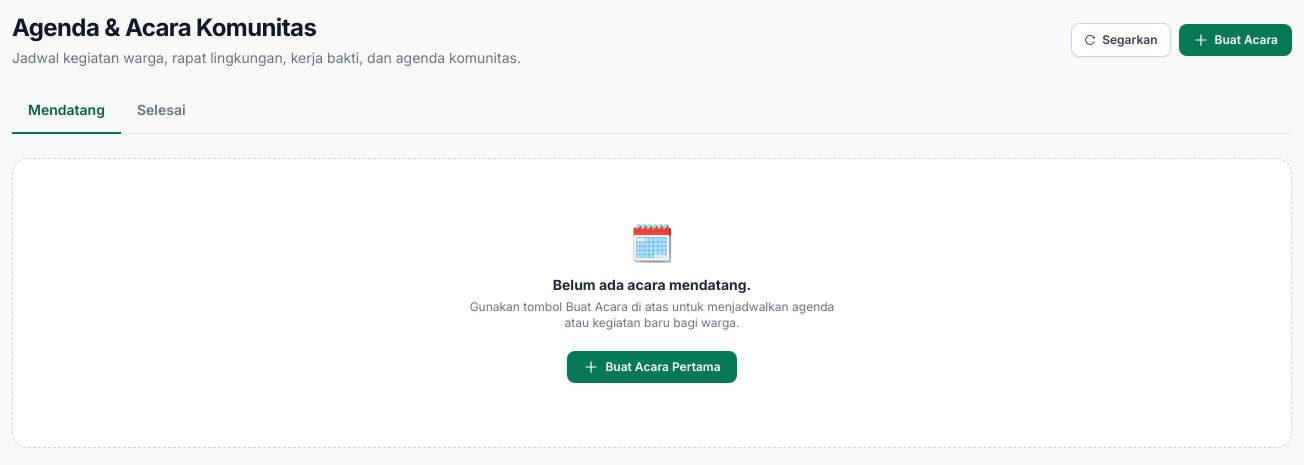
Test: TenantEvents Component Tests (RTRW-3.2c) › menampilkan keadaan kosong spesifik per tab: "Belum ada acara mendatang." dan "Belum ada acara yang selesai."
The image size is (1304, 465).
Expected: the text "Belum ada acara mendatang." is shown, [553, 276, 751, 293]
# Pindah ke tab Selesai
Click the button "Selesai".
click(161, 117)  # box [121, 100, 202, 134]
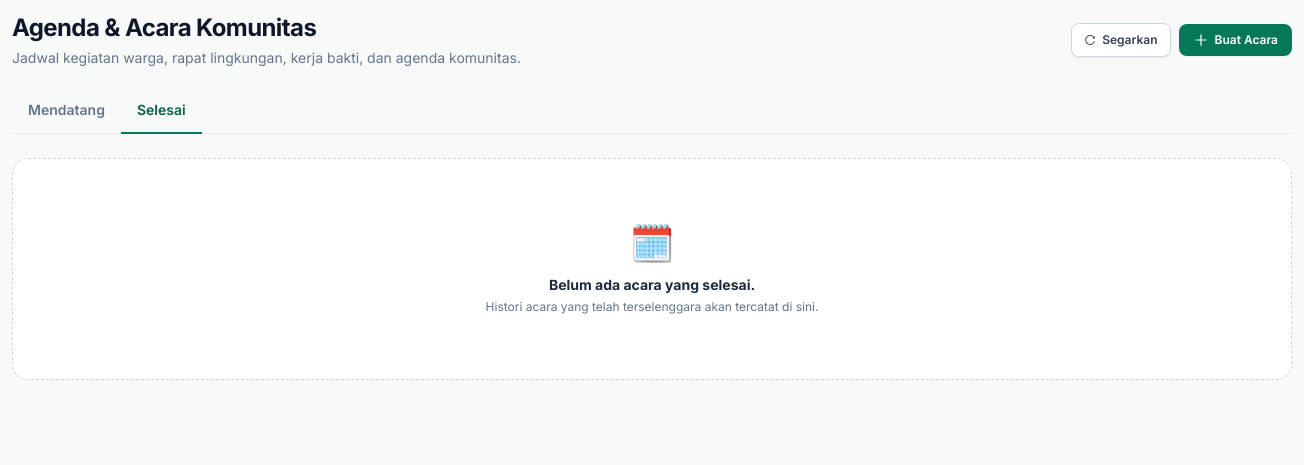
Result: the text "Belum ada acara yang selesai." is shown at [549, 276, 755, 293]
